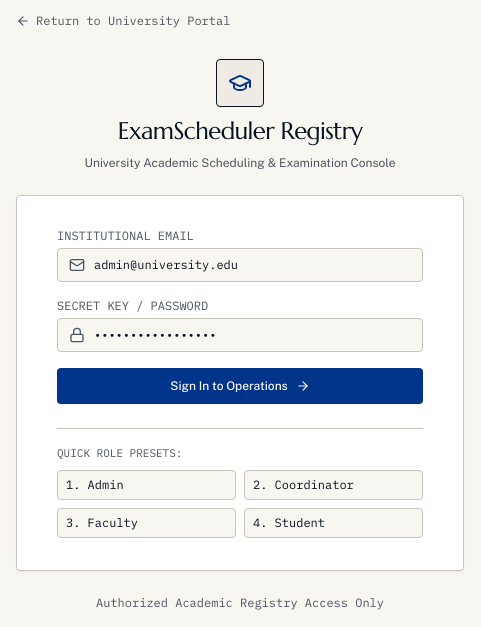
Test case: Authentication Flow: Login, Session & Logout › renders LoginPage and handles quick role presets
Expected: the field with placeholder "registrar@university.edu" holds "admin@university.edu", [57,248,423,282]
// Click Student preset
Click the button "4. Student": [334, 523] box [244,508,423,538]
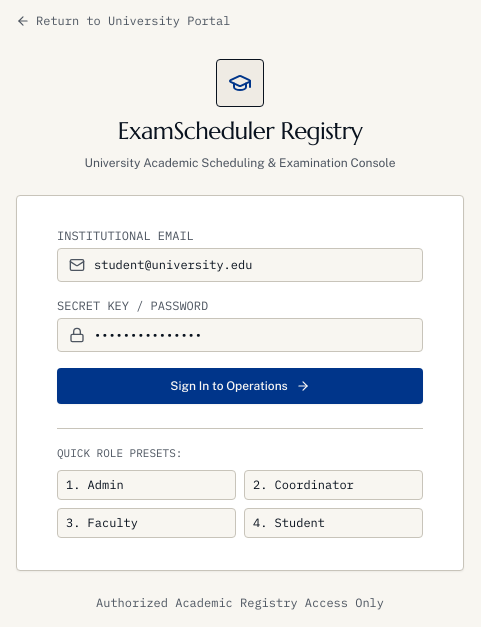
Expected: the field with placeholder "registrar@university.edu" holds "student@university.edu", [57,248,423,282]
// Click Coordinator preset
Click the button "2. Coordinator": [334, 485] box [244,470,423,500]
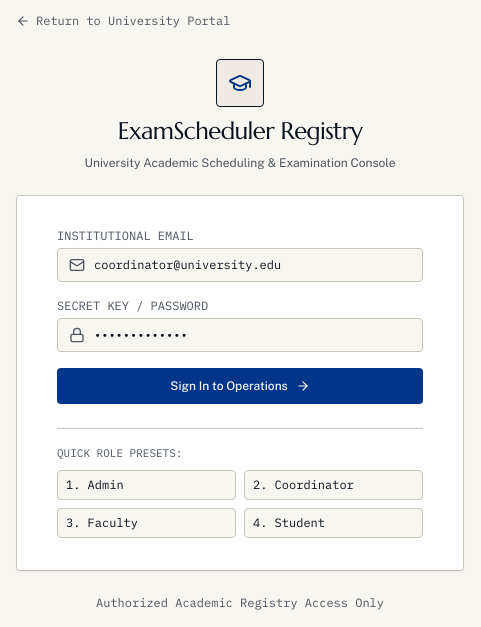
Expected: the field with placeholder "registrar@university.edu" holds "coordinator@university.edu", [57,248,423,282]
